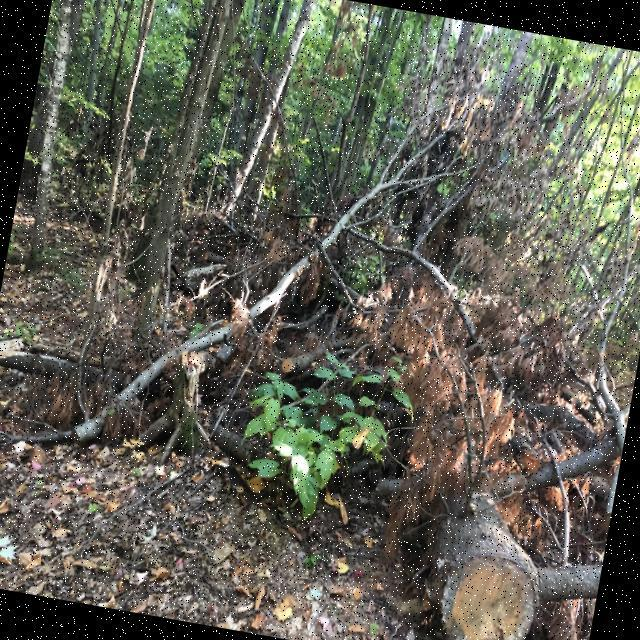fallen_object: (73, 102, 432, 480), (356, 294, 605, 640)
